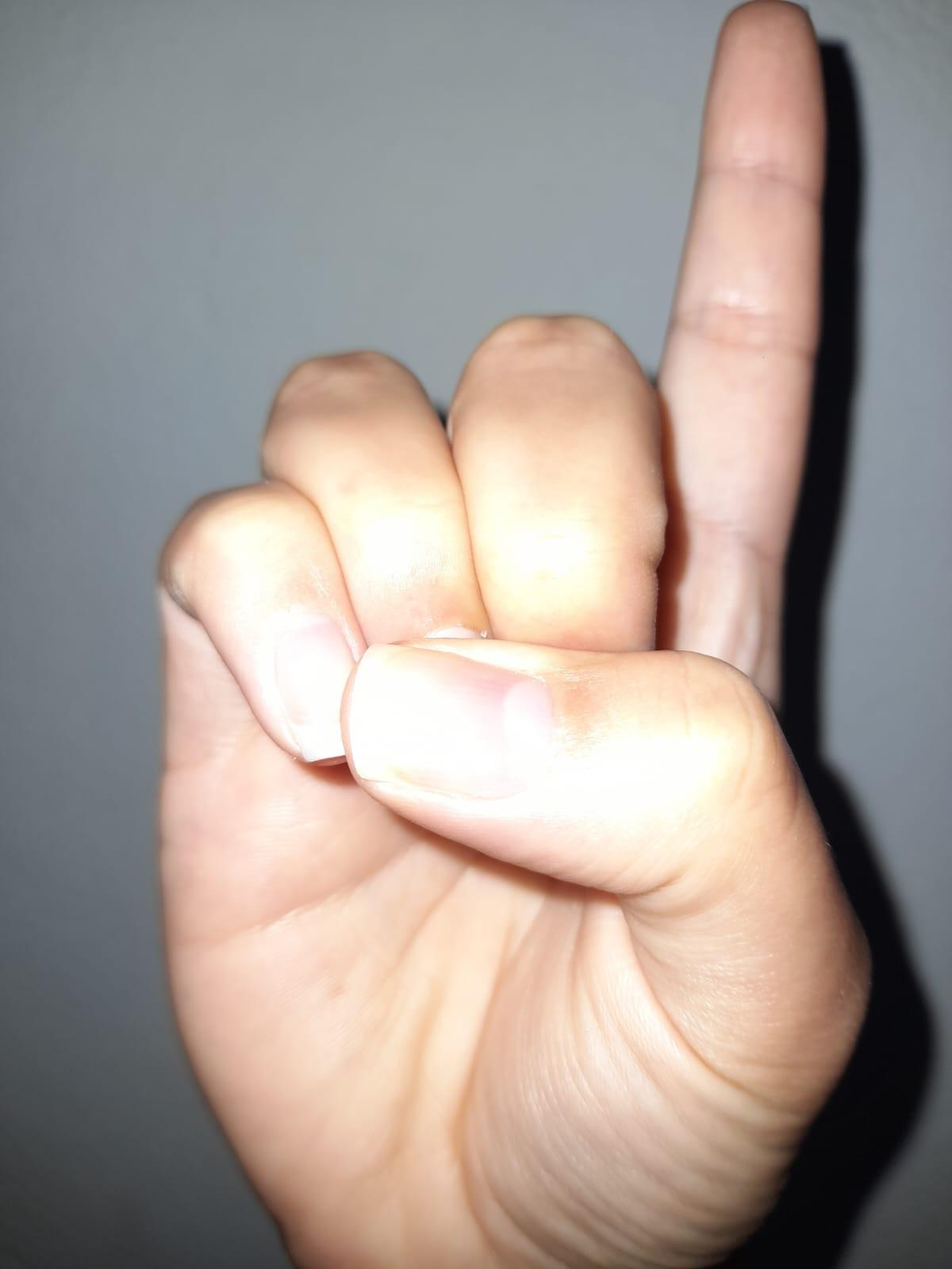D2: (20, 4, 924, 1265)
